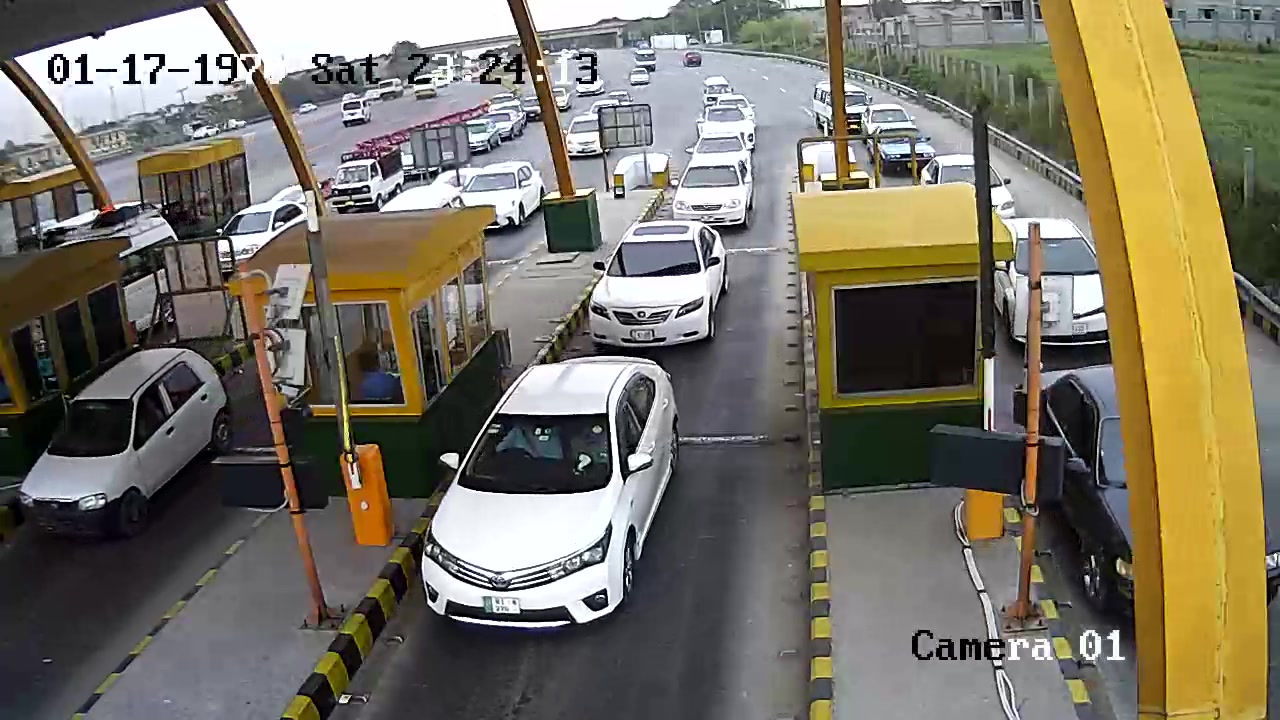F1: (420, 355, 689, 638), (588, 222, 733, 354)
